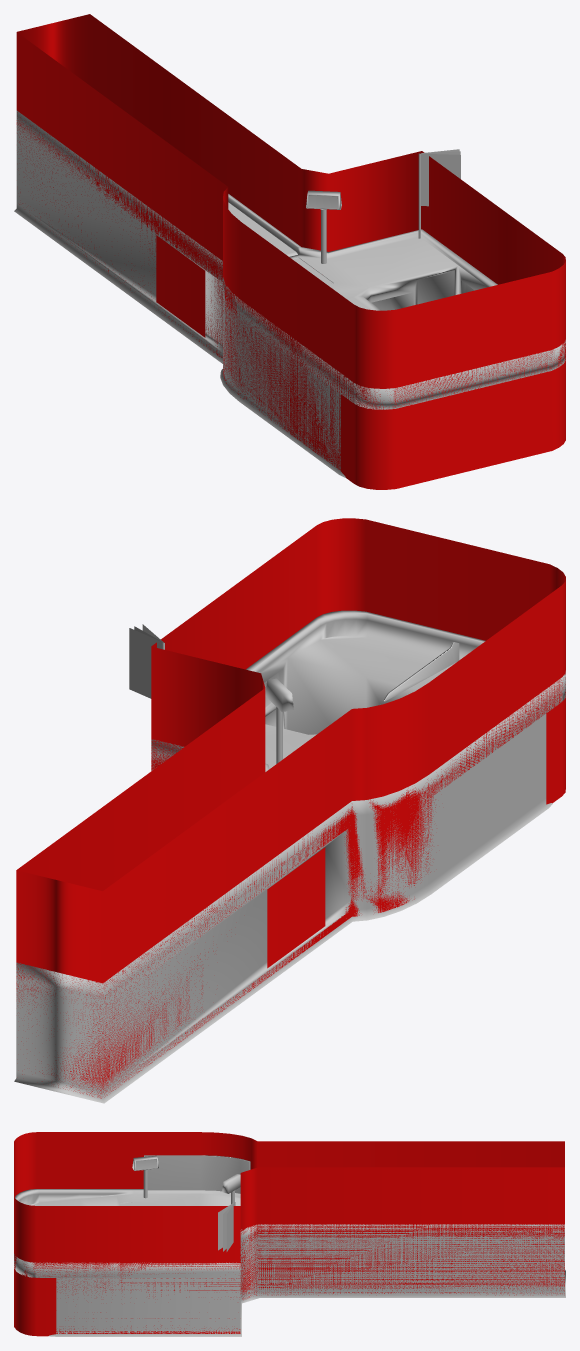
Rendered from kasse.fbx.
3 renders of one model, top to bottom at view 1: azimuth 30°, elevation 25°; view 2: azimuth 150°, elevation 25°; view 3: azimuth 270°, elevation 25°, orthographic. The views are drawn at different scales.
Parts seen in each view (by area): view 1: colmesh, kasse; view 2: colmesh, kasse; view 3: colmesh, kasse.
Part boxes in pixels (x1=…): colmesh: x1=16, y1=14, x2=565, y2=489; kasse: x1=14, y1=110, x2=565, y2=477; colmesh: x1=16, y1=518, x2=565, y2=1098; kasse: x1=14, y1=610, x2=565, y2=1103; colmesh: x1=14, y1=1132, x2=564, y2=1336; kasse: x1=14, y1=1155, x2=565, y2=1336.
Size of the model in its own units: 243 by 176 by 671.
